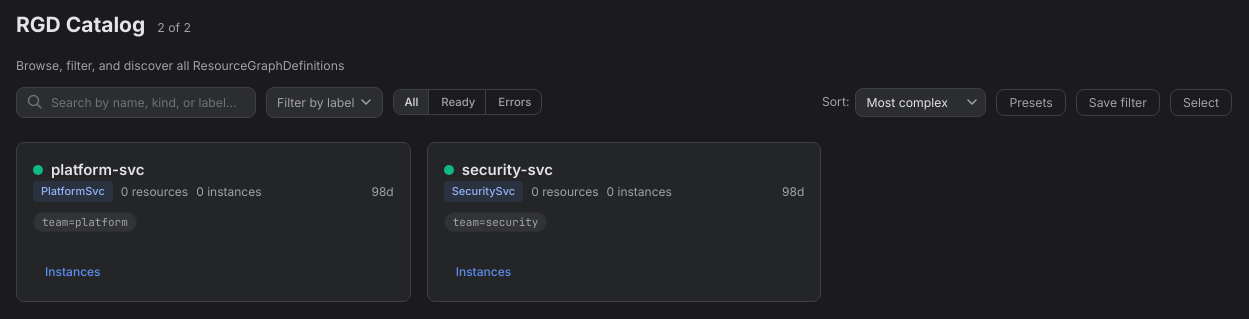
Test: Catalog › filters by label selection
This screenshot has width=1249, height=319.
Check: the element with test id "catalog-card-platform-svc" is shown, box [16,142,411,302]
// Open label filter dropdown
What coordinates should you click on to do the following:
click the button "Filter by label"
I would click on:
 (325, 102)
Its box is [266,87,384,118].
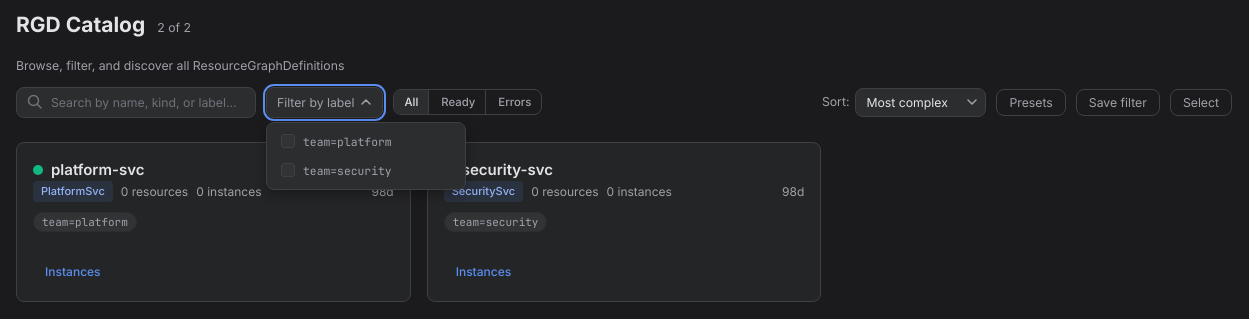
What coordinates should you click on to do the following:
click the option "team=platform"
I would click on:
 (336, 141)
Its box is [281,134,392,149].
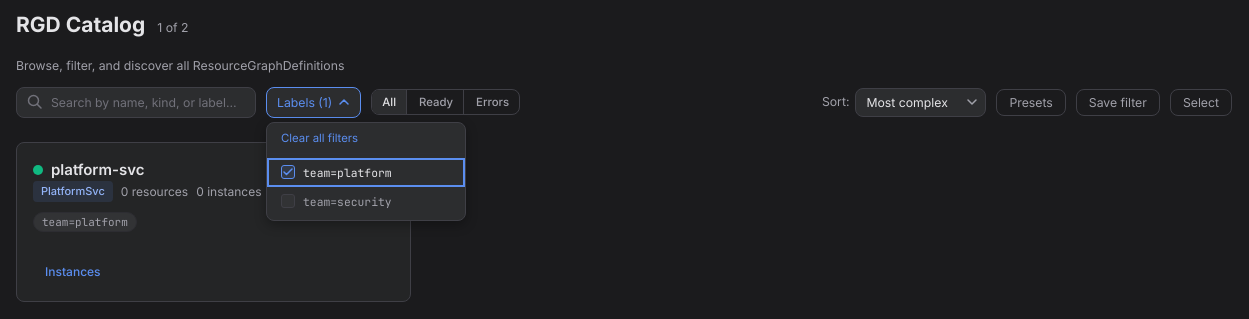
Check: the element with test id "catalog-card-platform-svc" is shown, box [16,142,411,302]
Check: the element with test id "catalog-card-security-svc" is gone
